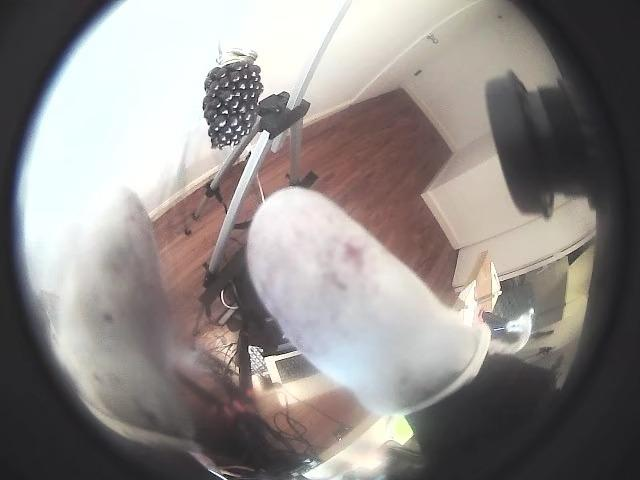berry: (202, 54, 263, 148)
gripper: (247, 188, 490, 414), (53, 189, 189, 448)
lense: (422, 0, 639, 479), (0, 0, 215, 479)
